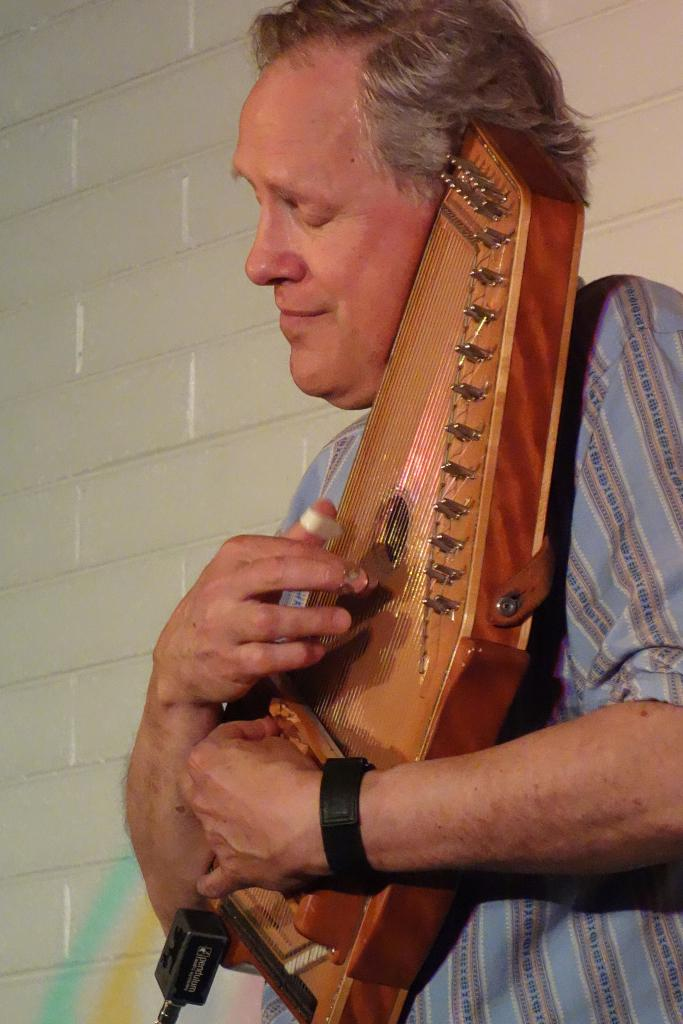face: (229, 35, 410, 402)
